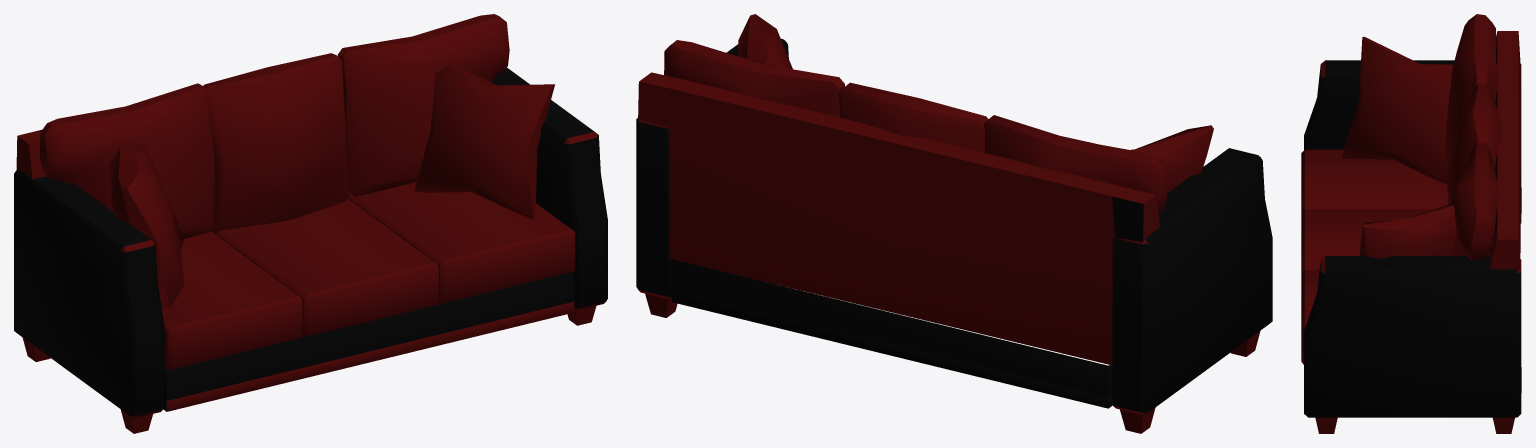
File: New Couch.fbx
The picture shows the model from 3 angles, left to right: view 1: azimuth 30°, elevation 25°; view 2: azimuth 150°, elevation 25°; view 3: azimuth 270°, elevation 25°; orthographic projection. The views are drawn at different scales.
Parts seen in each view (by area): view 1: Couch; view 2: Couch; view 3: Couch.
Part boxes in pixels (x1,y1,x2,y2): Couch: [14, 14, 607, 433]; Couch: [636, 14, 1272, 433]; Couch: [1301, 14, 1521, 433].
Bounding box in the file's own units: 2.23 × 0.98 × 1.09.
